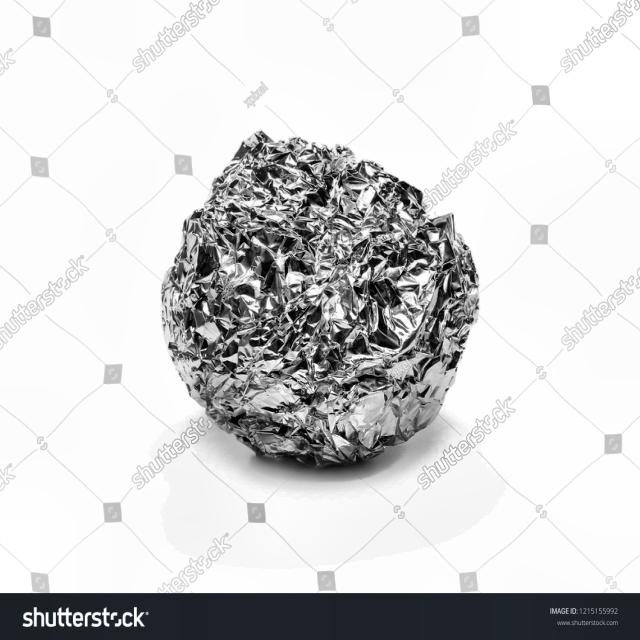Foil: (116, 102, 510, 507)
